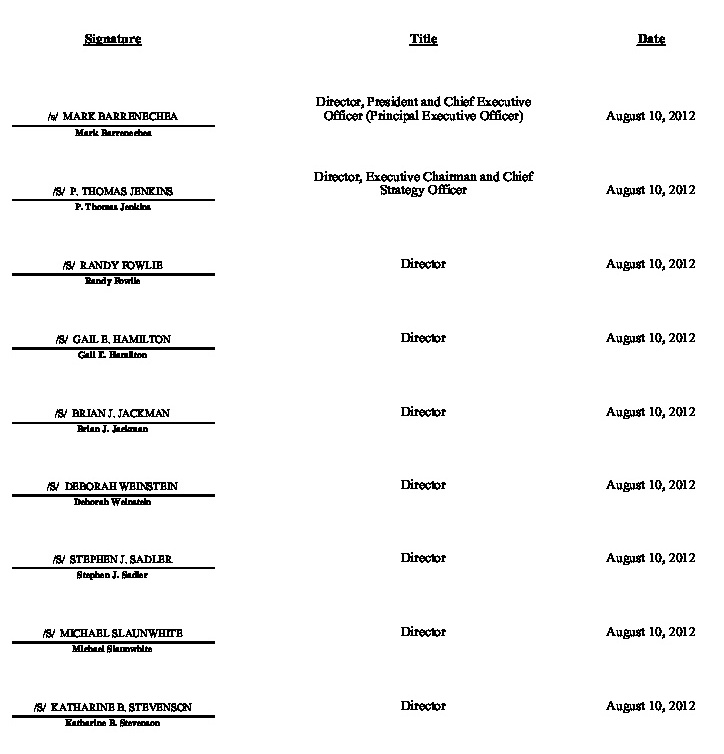table: (0, 0, 724, 754)
